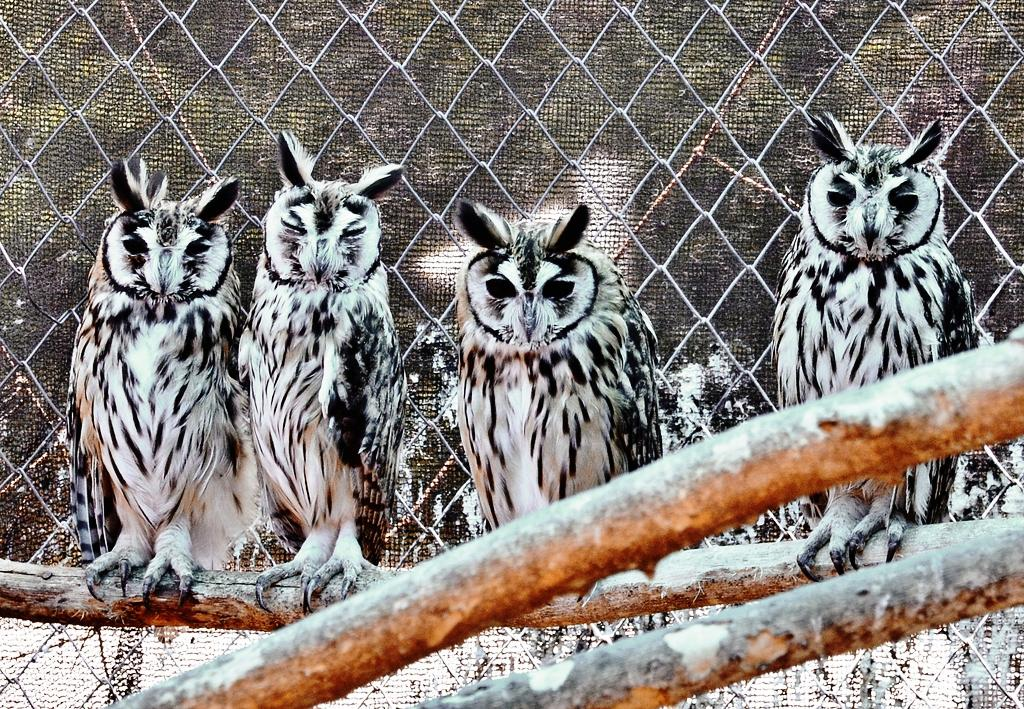Owl: (769, 107, 973, 580), (64, 146, 252, 600), (247, 128, 410, 618), (456, 196, 666, 530)
